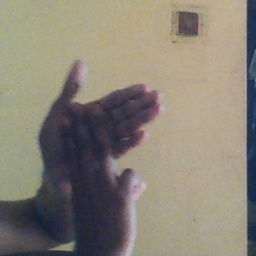M: (33, 58, 164, 228)
